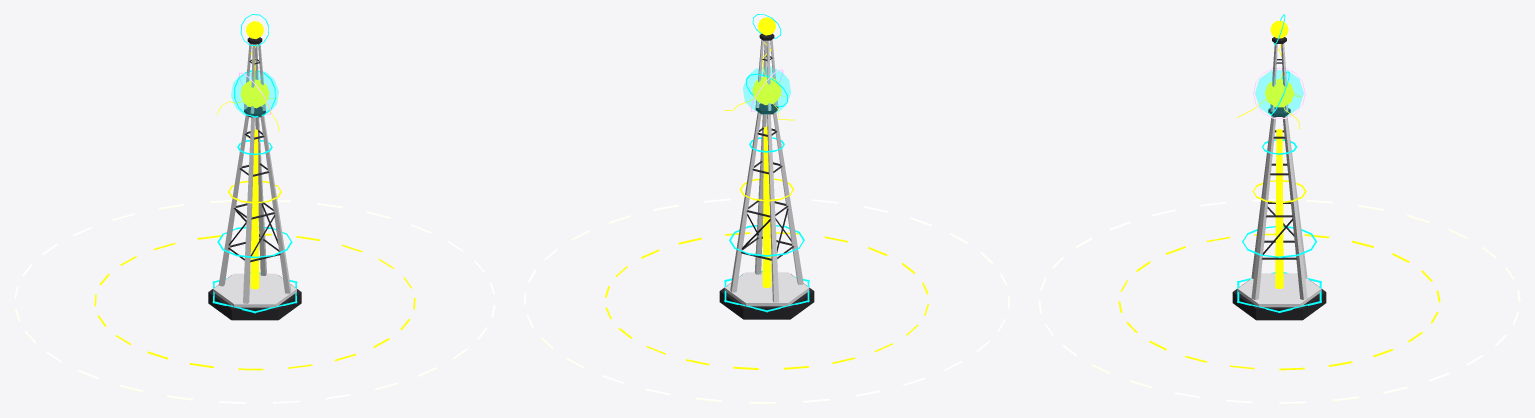
The model's file is PowerPylon.fbx.
The picture shows the model from 3 angles, left to right: view 1: azimuth 30°, elevation 25°; view 2: azimuth 150°, elevation 25°; view 3: azimuth 270°, elevation 25°; orthographic projection.
Parts seen in each view (by area): view 1: Pylon_BaseTop, PylMk2_OrbShell, PylMk2_BuildRadius, Pylon_Base, Pylon_Core, Pylon_Strut2, Pylon_Strut3, Pylon_Strut1, Pylon_BuildRadius, Pylon_Strut0, Pylon_Orb; view 2: Pylon_BaseTop, PylMk2_OrbShell, PylMk2_BuildRadius, Pylon_Base, Pylon_Core, Pylon_Strut1, Pylon_Strut0, Pylon_Strut2, Pylon_BuildRadius, Pylon_Strut3, Pylon_Orb; view 3: Pylon_BaseTop, PylMk2_OrbShell, PylMk2_BuildRadius, Pylon_Base, Pylon_Core, Pylon_Strut3, Pylon_Strut0, Pylon_BuildRadius, Pylon_Orb.
Part boxes in pixels (left/top/right/bottom): Pylon_BaseTop: left=213, top=273, right=296, bottom=307; PylMk2_OrbShell: left=231, top=70, right=278, bottom=117; PylMk2_BuildRadius: left=14, top=199, right=495, bottom=403; Pylon_Base: left=208, top=275, right=301, bottom=320; Pylon_Core: left=250, top=129, right=259, bottom=289; Pylon_Strut2: left=243, top=117, right=254, bottom=303; Pylon_Strut3: left=260, top=115, right=291, bottom=293; Pylon_Strut1: left=218, top=115, right=248, bottom=286; Pylon_BuildRadius: left=94, top=233, right=415, bottom=370; Pylon_Strut0: left=255, top=117, right=266, bottom=275; Pylon_Orb: left=240, top=79, right=269, bottom=108; Pylon_BaseTop: left=724, top=272, right=809, bottom=306; PylMk2_OrbShell: left=743, top=66, right=790, bottom=114; PylMk2_BuildRadius: left=524, top=197, right=1009, bottom=403; Pylon_Base: left=719, top=274, right=814, bottom=319; Pylon_Core: left=762, top=126, right=771, bottom=287; Pylon_Strut1: left=767, top=114, right=779, bottom=302; Pylon_Strut0: left=730, top=112, right=761, bottom=292; Pylon_Strut2: left=773, top=112, right=803, bottom=284; Pylon_BuildRadius: left=605, top=232, right=928, bottom=369; Pylon_Strut3: left=754, top=114, right=766, bottom=274; Pylon_Orb: left=752, top=76, right=781, bottom=105; Pylon_BaseTop: left=1237, top=273, right=1321, bottom=307; PylMk2_OrbShell: left=1255, top=70, right=1303, bottom=116; PylMk2_BuildRadius: left=1038, top=199, right=1520, bottom=403; Pylon_Base: left=1232, top=280, right=1326, bottom=320; Pylon_Core: left=1275, top=129, right=1283, bottom=288; Pylon_Strut3: left=1251, top=116, right=1276, bottom=299; Pylon_Strut0: left=1282, top=116, right=1307, bottom=299; Pylon_BuildRadius: left=1118, top=233, right=1440, bottom=370; Pylon_Orb: left=1264, top=79, right=1294, bottom=107.
Bounding box in the file's own units: 3.92 × 2.58 × 3.92.
